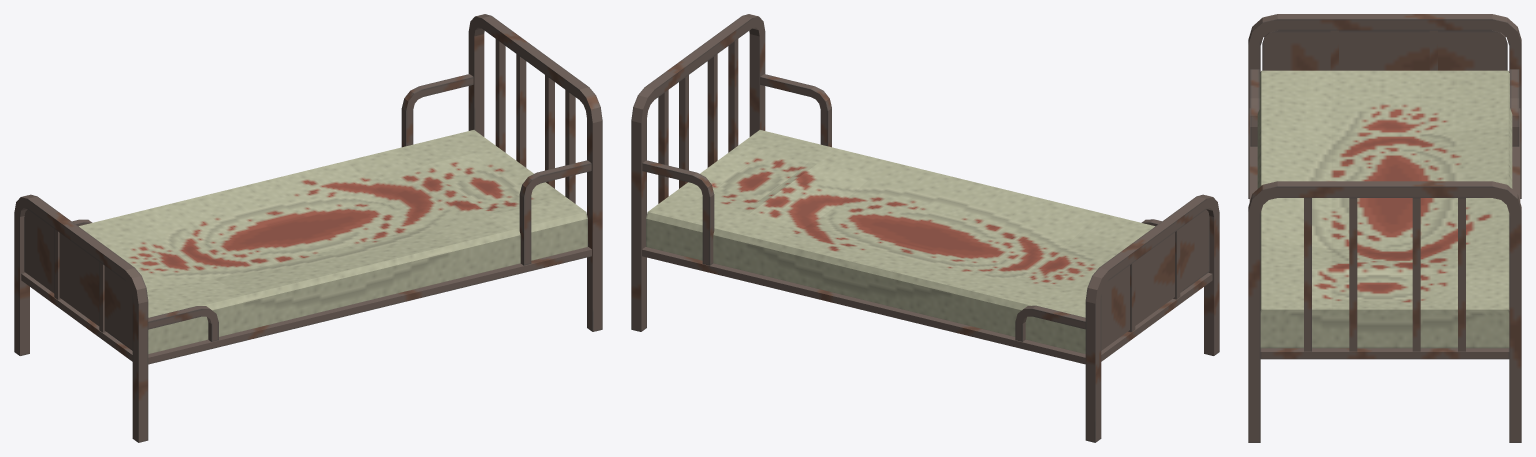
The model's file is obj_bed.fbx.
3 views of the same model, side by side, from view 1: azimuth 30°, elevation 25°; view 2: azimuth 150°, elevation 25°; view 3: azimuth 270°, elevation 25° (orthographic). The views are drawn at different scales.
Visible parts, largest first — view 1: obj_bed; view 2: obj_bed; view 3: obj_bed.
Part boxes in pixels (x1,y1,x2,y2): obj_bed: (14, 14, 602, 442); obj_bed: (631, 14, 1219, 442); obj_bed: (1248, 14, 1521, 442).
Bounding box in the file's own units: 209 × 100 × 96.79.
